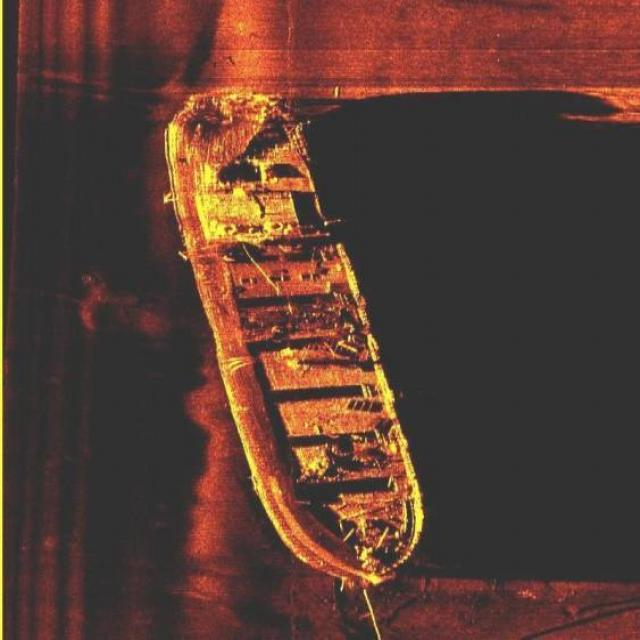ship: (158, 87, 425, 589)
